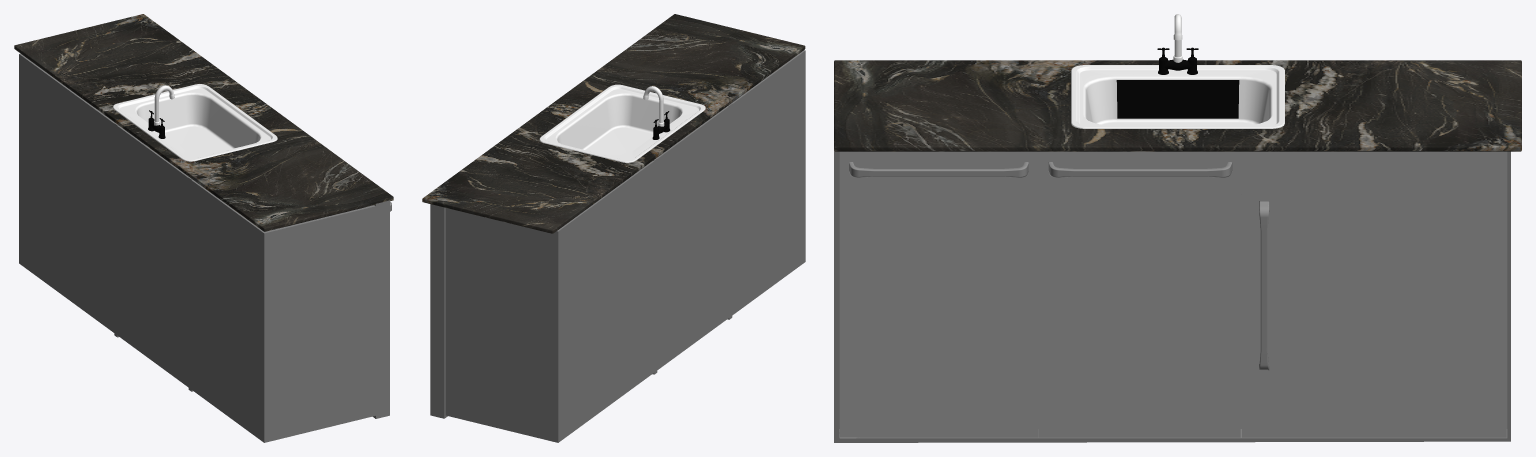
File: KitchenCabinetSink.fbx
3 views of the same model, side by side, from view 1: azimuth 30°, elevation 25°; view 2: azimuth 150°, elevation 25°; view 3: azimuth 270°, elevation 25° (orthographic). The views are drawn at different scales.
Visible parts, largest first — view 1: CABINET.001, CABINET.005, Sink; view 2: CABINET.001, CABINET.005, Sink; view 3: CABINET.010, CABINET.009, CABINET.008, CABINET.005, Sink, CABINET.001.
Part boxes in pixels (bbox=[...]): CABINET.001: bbox=[19, 53, 389, 442]; CABINET.005: bbox=[14, 14, 393, 231]; Sink: bbox=[113, 84, 277, 161]; CABINET.001: bbox=[430, 50, 805, 442]; CABINET.005: bbox=[422, 14, 805, 233]; Sink: bbox=[539, 84, 705, 162]; CABINET.010: bbox=[1241, 151, 1507, 437]; CABINET.009: bbox=[1038, 151, 1241, 437]; CABINET.008: bbox=[839, 151, 1038, 438]; CABINET.005: bbox=[834, 60, 1521, 151]; Sink: bbox=[1071, 14, 1284, 128]; CABINET.001: bbox=[834, 151, 1510, 442].
Bounding box in the file's own units: 52.95 × 97.72 × 169.
5 materials, 1 textured.
